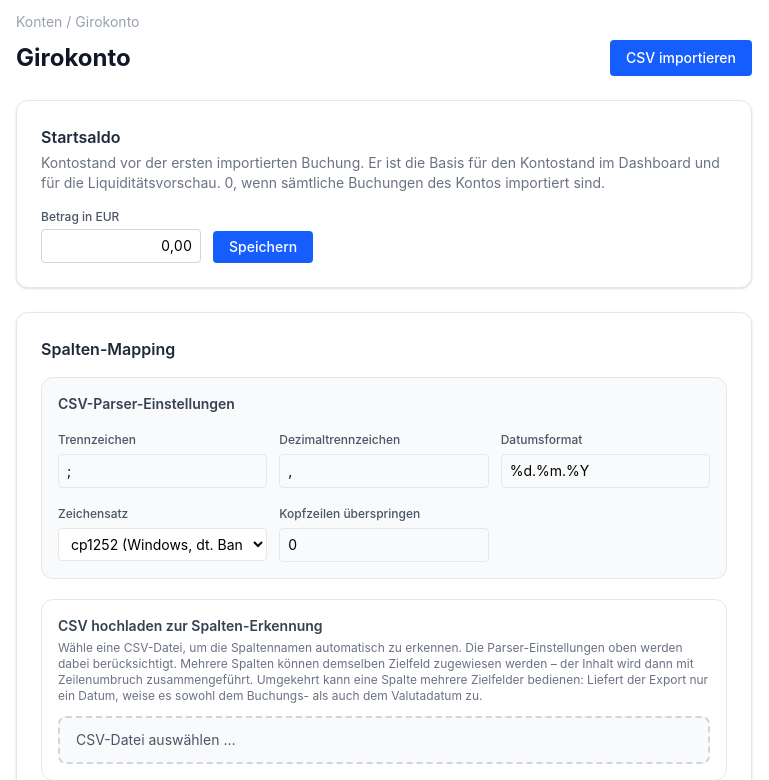
Scenario: AccountDetailPage – Startsaldo › speichert einen geänderten Startsaldo normalisiert
Replace the text in the field labelled "Betrag in EUR" with "1.234,56" at coordinates (121, 246), box [41,229,201,263]
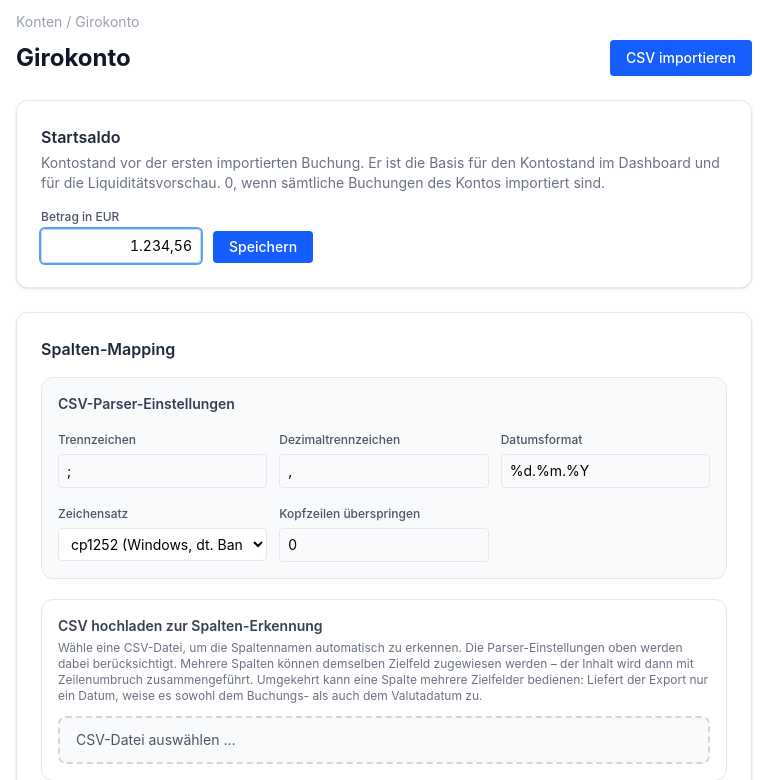
Click the button "Speichern".
click(263, 247)  # box [213,231,313,263]
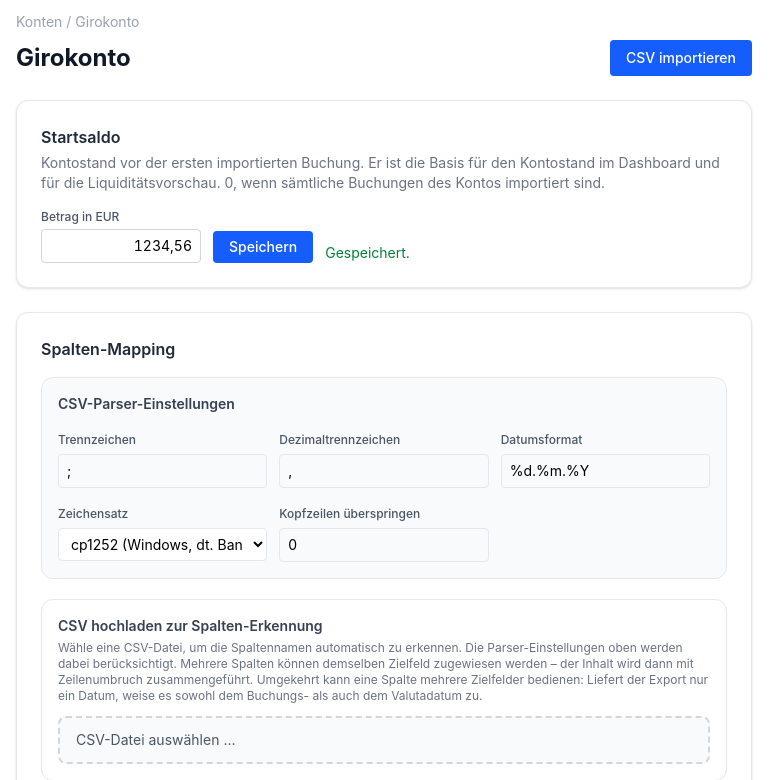
Expected: the text "Gespeichert." is shown, [325,243,410,263]
